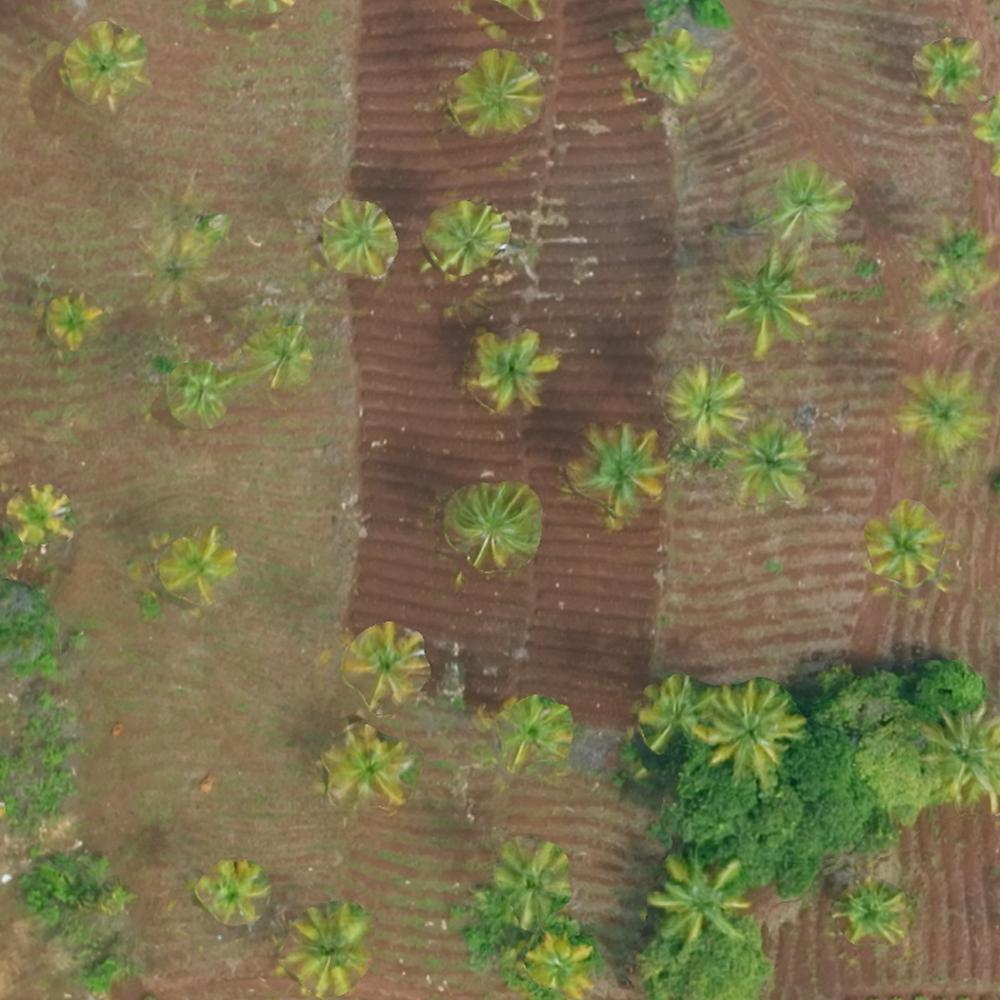Palm: (727, 252, 818, 351), (915, 707, 1000, 808), (575, 423, 662, 517), (649, 858, 745, 939), (448, 483, 535, 568), (702, 684, 788, 769), (453, 49, 543, 129), (902, 366, 984, 448), (287, 907, 366, 990), (322, 728, 407, 802), (475, 329, 553, 409), (65, 22, 143, 101), (864, 505, 944, 582), (426, 202, 507, 276), (770, 167, 848, 243), (317, 201, 395, 277), (155, 528, 236, 601), (733, 429, 812, 501), (346, 629, 426, 700), (670, 365, 744, 441), (496, 842, 566, 921), (634, 35, 712, 101), (4, 483, 71, 549), (644, 679, 709, 746), (840, 880, 910, 942), (198, 862, 265, 924), (528, 936, 593, 999), (912, 36, 978, 98), (503, 699, 568, 759), (43, 296, 100, 351)
